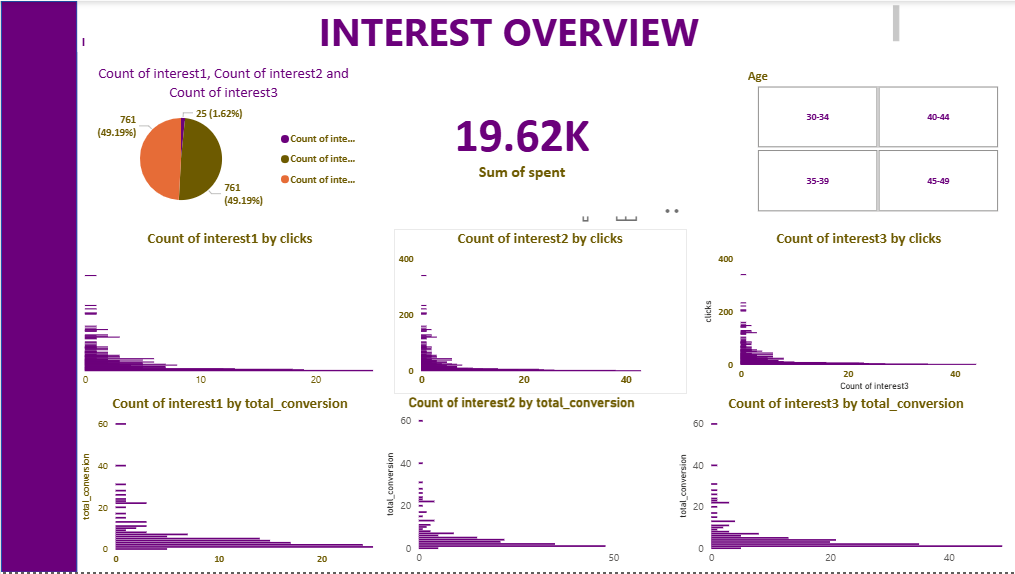

This screenshot's page, from the dashboard's own definition file:
{"tool":"powerbi","page":{"name":"Page 3","canvas":[1280,720],"ordinal":2},"visuals":[{"type":"barChart","fields":{"Category":["Facebook ad.clicks"],"Y":["Count(Facebook ad.interest1)"]},"box":[96,288,384,208],"z":3001},{"type":"barChart","fields":{"Category":["Facebook ad.clicks"],"Y":["Count(Facebook ad.interest2)"]},"box":[496,288,368,208],"z":3002},{"type":"barChart","fields":{"Category":["Facebook ad.clicks"],"Y":["Count(Facebook ad.interest3)"]},"box":[880,288,400,208],"z":3003},{"type":"barChart","fields":{"Y":["Count(Facebook ad.interest1)"],"Category":["Facebook ad.total_conversion"]},"box":[96,496,384,224],"z":3004},{"type":"barChart","fields":{"Y":["Count(Facebook ad.interest2)"],"Category":["Facebook ad.total_conversion"]},"box":[480,496,352,224],"z":3005},{"type":"barChart","fields":{"Y":["Count(Facebook ad.interest3)"],"Category":["Facebook ad.total_conversion"]},"box":[848,496,432,224],"z":3006},{"type":"pieChart","fields":{"Y":["Count(Facebook ad.interest1)","CountNonNull(Facebook ad.interest2)","CountNonNull(Facebook ad.interest3)"]},"box":[96,80,368,192],"z":3007},{"type":"slicer","fields":{"Values":["Facebook ad.Age"]},"box":[928,80,352,192],"z":3008},{"type":"shape","box":[0,0,96,720],"z":3009},{"type":"textbox","box":[96,0,1040,64],"z":3010},{"type":"card","fields":{"Values":["Sum(Facebook ad.spent)"]},"box":[480,80,352,192],"z":3011}]}

Visuals, with their boxes in screenshot pixels (x1, y1, x2, y2), scaled from the page's 1280x720 canvas onto the 1015x574 screenshot:
barChart - Facebook ad.clicks x Count(Facebook ad.interest1): region(76, 230, 381, 395)
barChart - Facebook ad.clicks x Count(Facebook ad.interest2): region(393, 230, 685, 395)
barChart - Facebook ad.clicks x Count(Facebook ad.interest3): region(698, 230, 1014, 395)
barChart - Count(Facebook ad.interest1) x Facebook ad.total_conversion: region(76, 395, 381, 573)
barChart - Count(Facebook ad.interest2) x Facebook ad.total_conversion: region(381, 395, 660, 573)
barChart - Count(Facebook ad.interest3) x Facebook ad.total_conversion: region(672, 395, 1014, 573)
pieChart - Count(Facebook ad.interest1) x CountNonNull(Facebook ad.interest2): region(76, 64, 368, 217)
slicer - Facebook ad.Age: region(736, 64, 1014, 217)
shape: region(0, 0, 76, 573)
textbox: region(76, 0, 901, 51)
card - Sum(Facebook ad.spent): region(381, 64, 660, 217)
